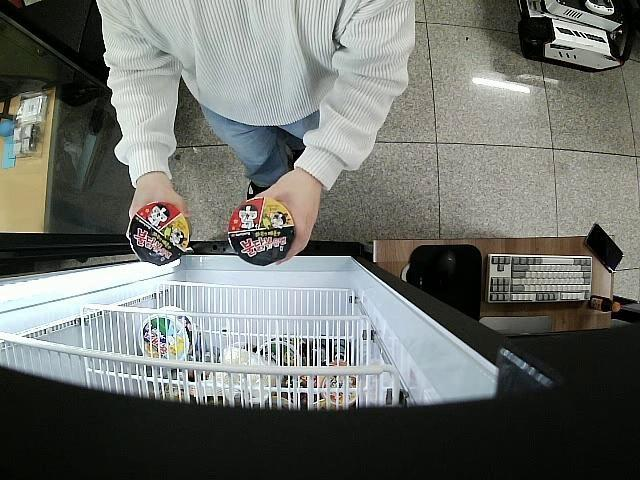08_buldak_S: (228, 198, 297, 267), (129, 202, 190, 265)
